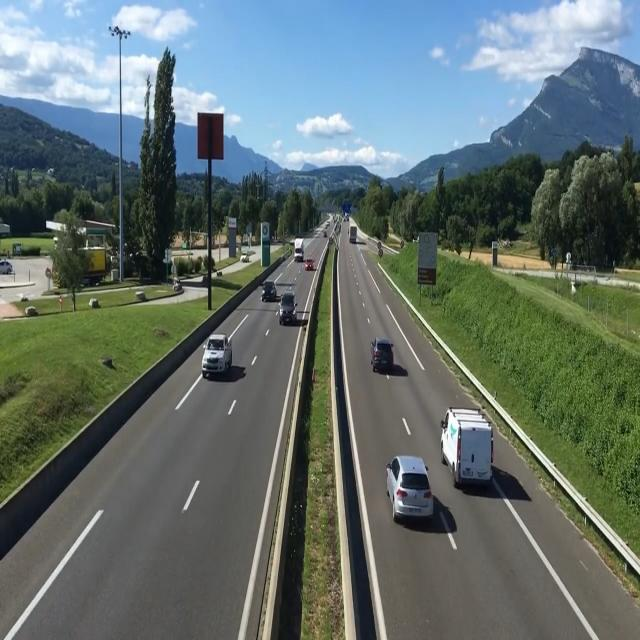car: (443, 408, 492, 493), (388, 457, 433, 531), (202, 330, 239, 380), (369, 334, 402, 378), (277, 281, 300, 327), (290, 236, 306, 268), (261, 283, 276, 306)
